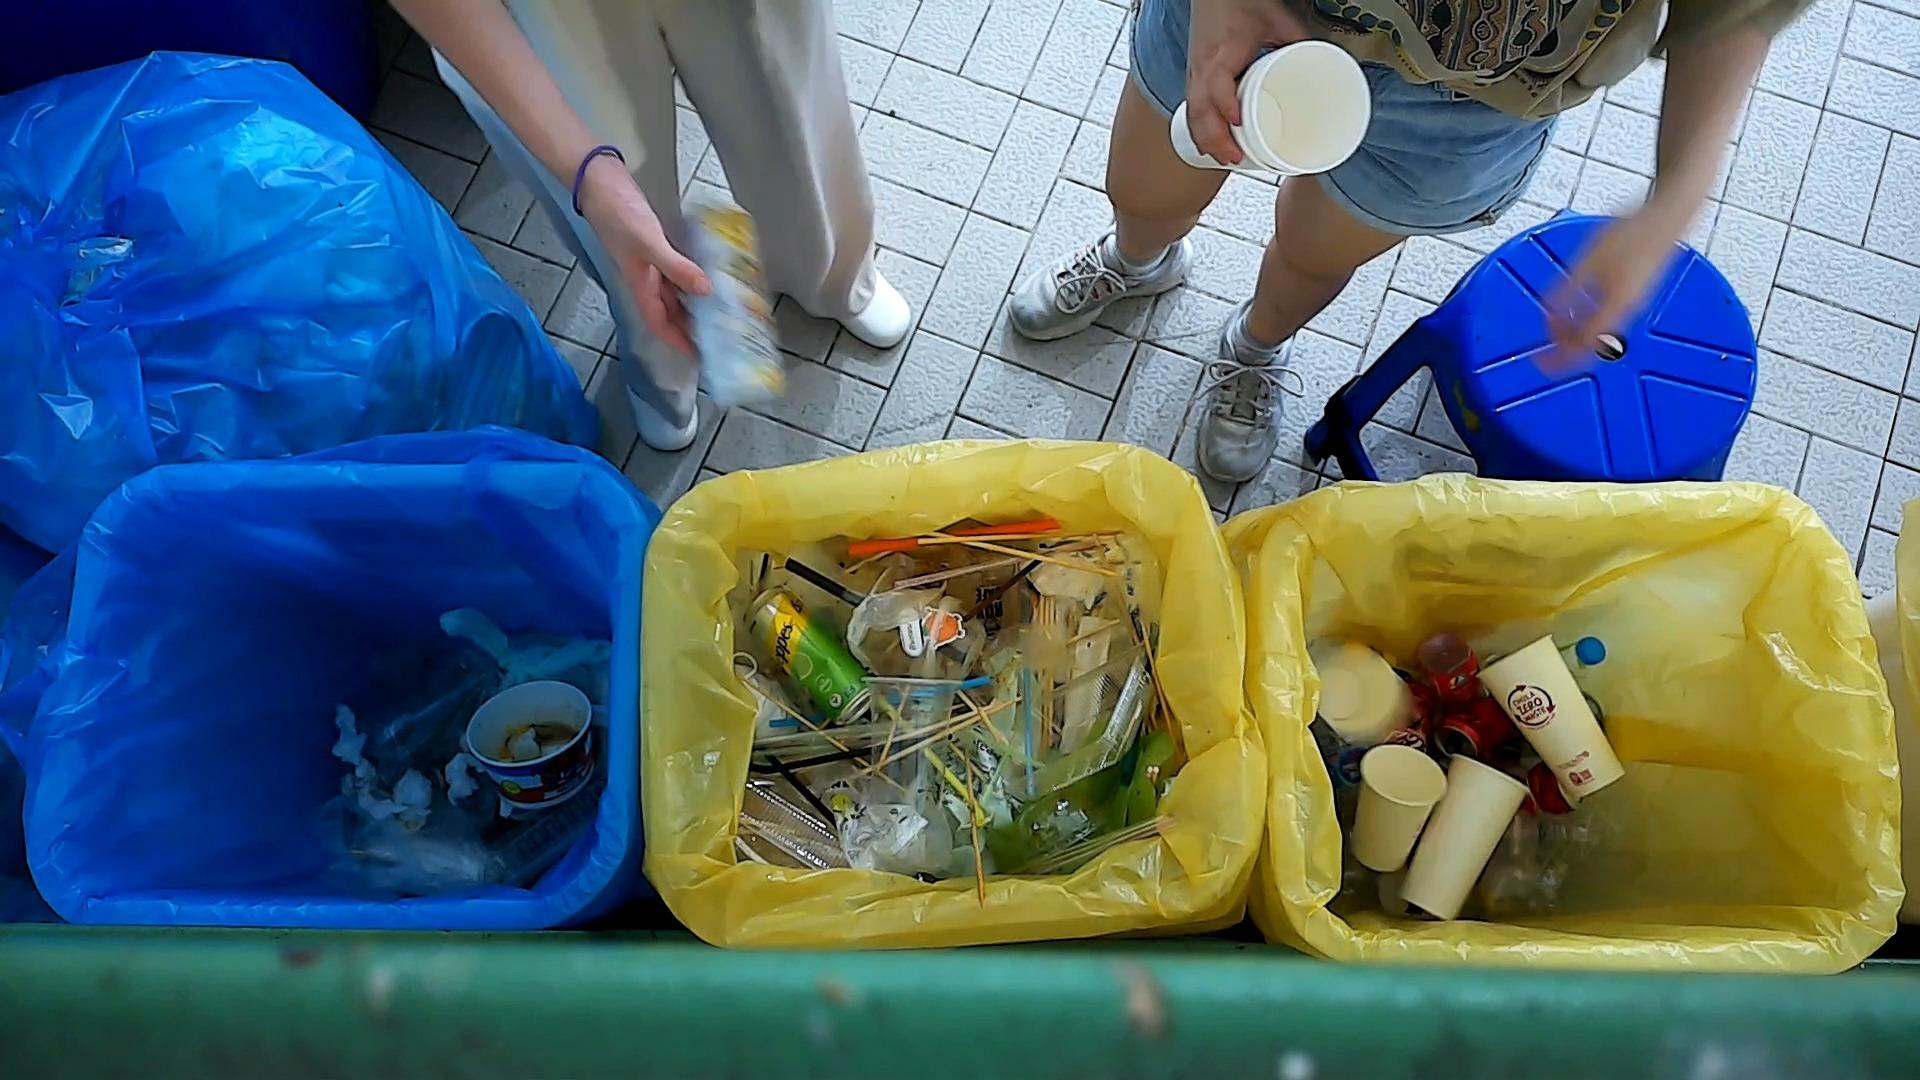can: (655, 194, 795, 413), (738, 580, 882, 728), (1432, 695, 1523, 764), (1520, 758, 1586, 819)
dirty food container: (463, 678, 597, 814)
food container: (985, 644, 1158, 810)
plastic bag: (828, 753, 960, 880)
plastic cup: (847, 563, 992, 680), (856, 673, 967, 820)
sticks: (740, 676, 905, 794), (849, 694, 1023, 782), (924, 529, 1125, 580), (1139, 620, 1185, 771), (862, 699, 998, 748), (915, 526, 1131, 547), (963, 746, 988, 909)
straw: (874, 688, 992, 828), (746, 732, 953, 775), (750, 717, 931, 758), (762, 750, 840, 833), (960, 558, 1040, 625), (893, 555, 1027, 592), (785, 553, 868, 608), (1019, 665, 1036, 799)
tissue paper: (355, 764, 435, 831), (327, 702, 380, 782), (442, 750, 487, 810)
zero waste cup: (1166, 36, 1370, 179), (1470, 630, 1622, 802), (1399, 750, 1532, 922), (1345, 740, 1449, 874), (1307, 641, 1416, 748)
